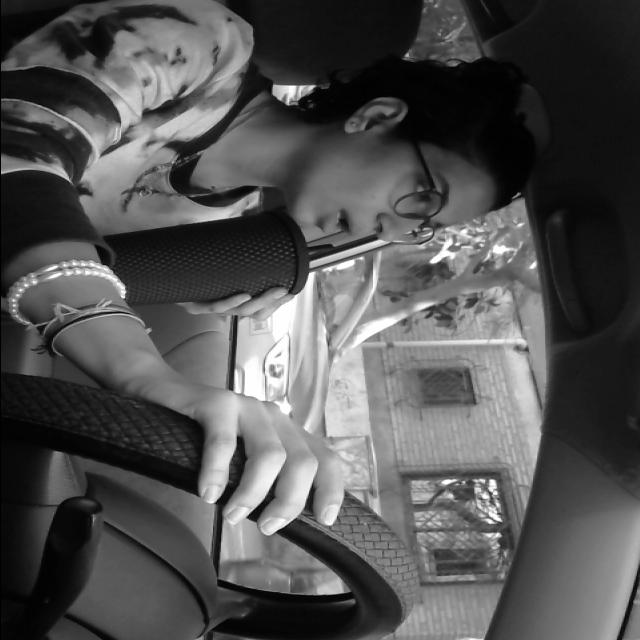drinking: (3, 209, 327, 327)
